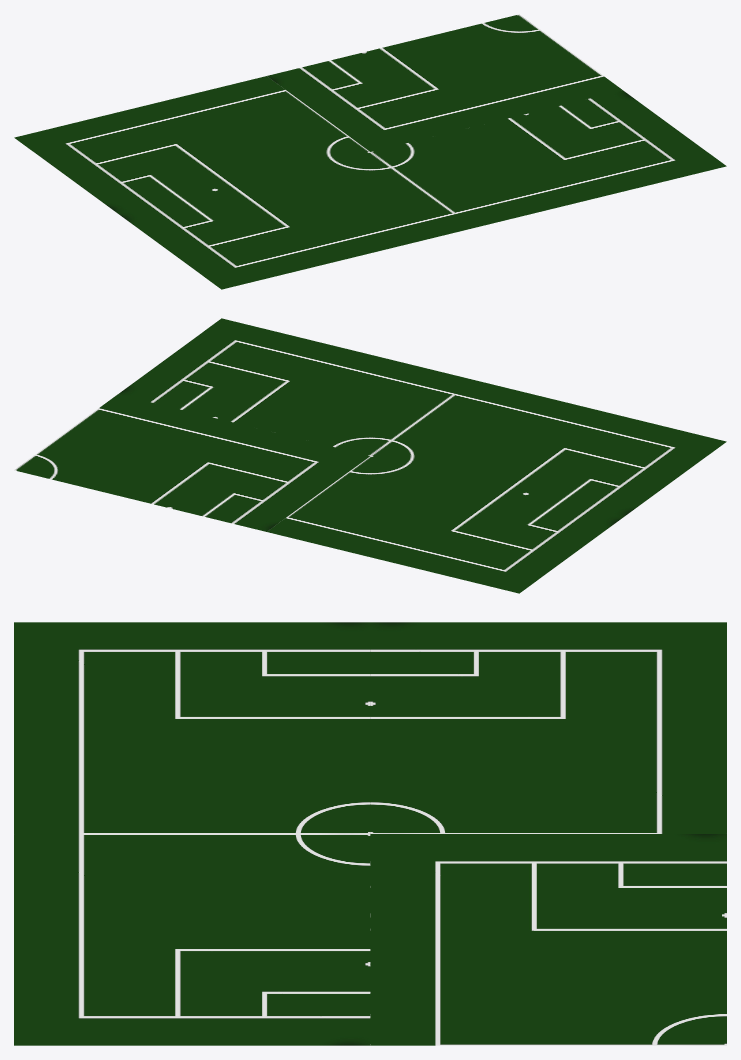
The model's file is field_retry.fbx.
3 views of the same model, one above another, from view 1: azimuth 30°, elevation 25°; view 2: azimuth 150°, elevation 25°; view 3: azimuth 270°, elevation 25° (orthographic). The views are drawn at different scales.
Visible parts, largest first — view 1: Plane.001; view 2: Plane.001; view 3: Plane.001.
Boxes of the visible parts, x1,y1,x2,y2 form: Plane.001: (14,14,726,289); Plane.001: (14,318,726,593); Plane.001: (14,622,726,1045).
Size of the model in its own units: 1040 by 0 by 740.
